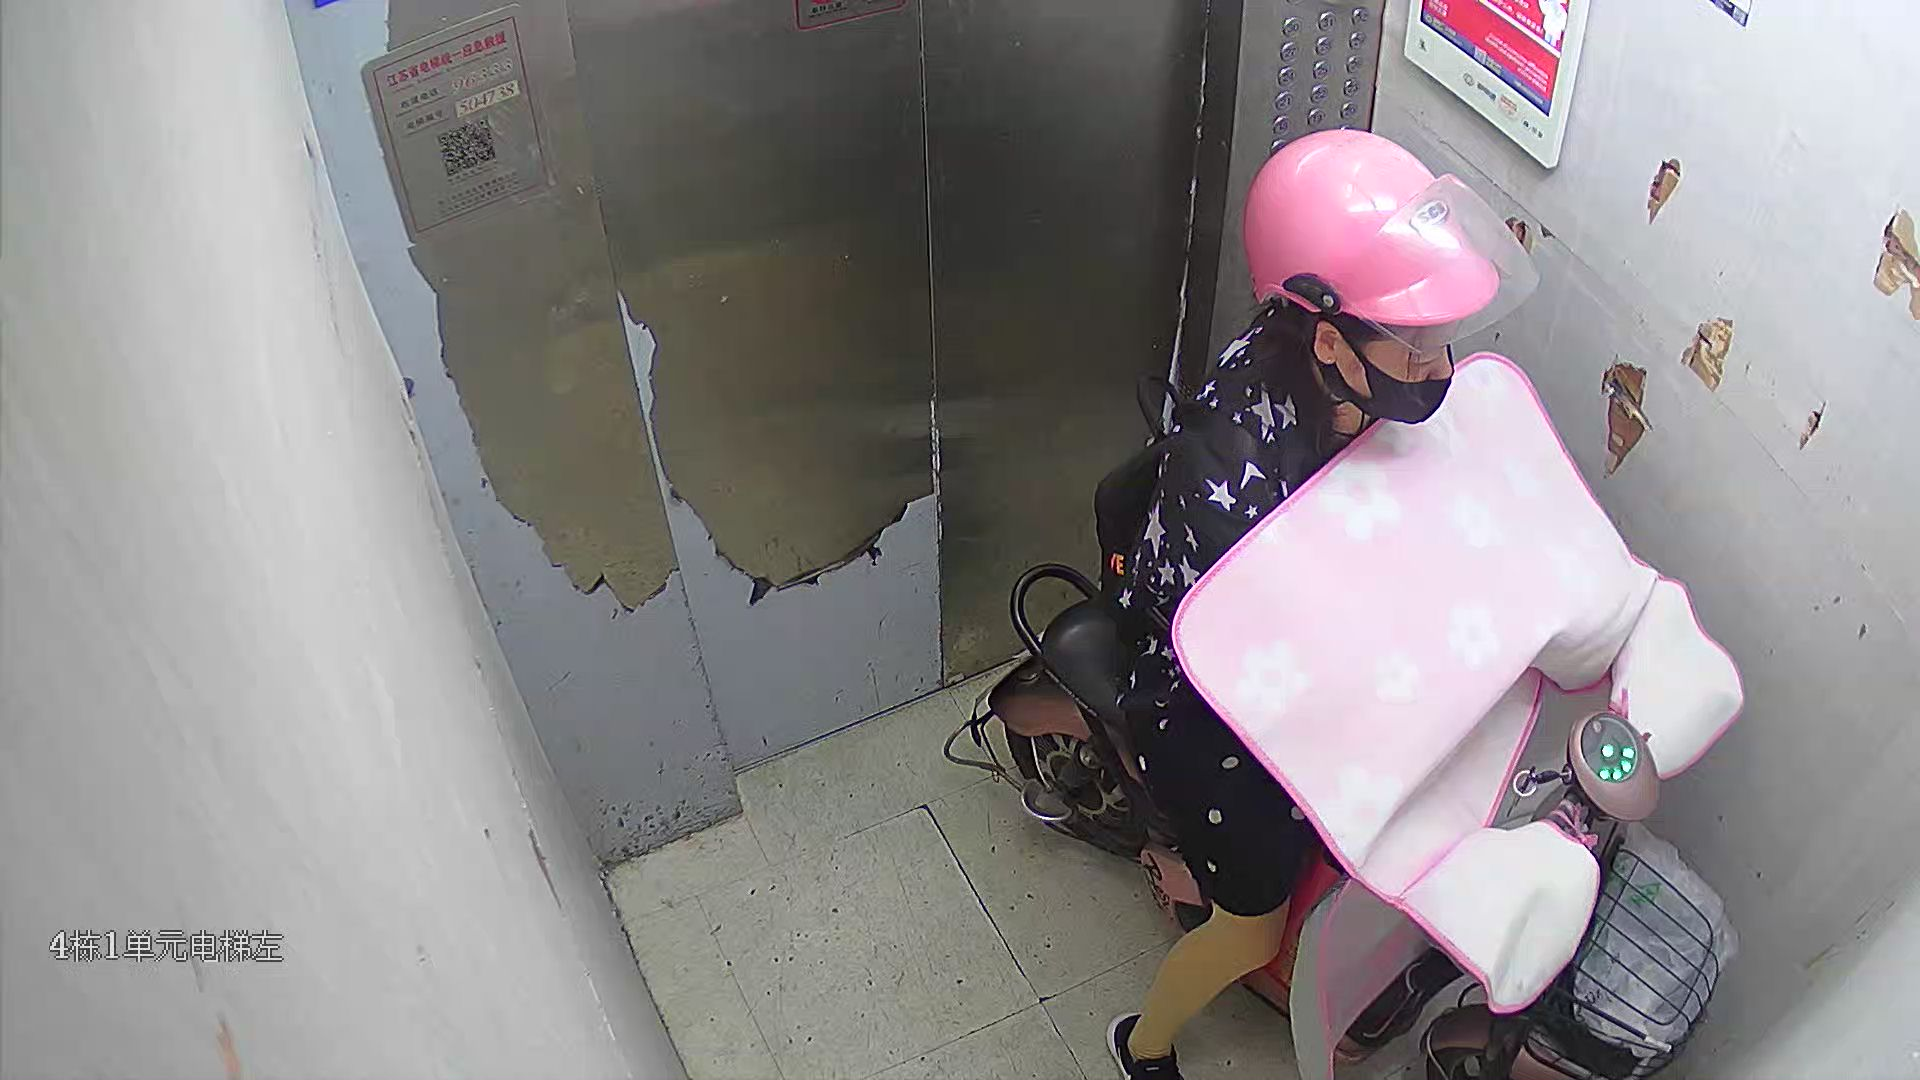Electric-bicycle: (1013, 533, 1731, 1080)
